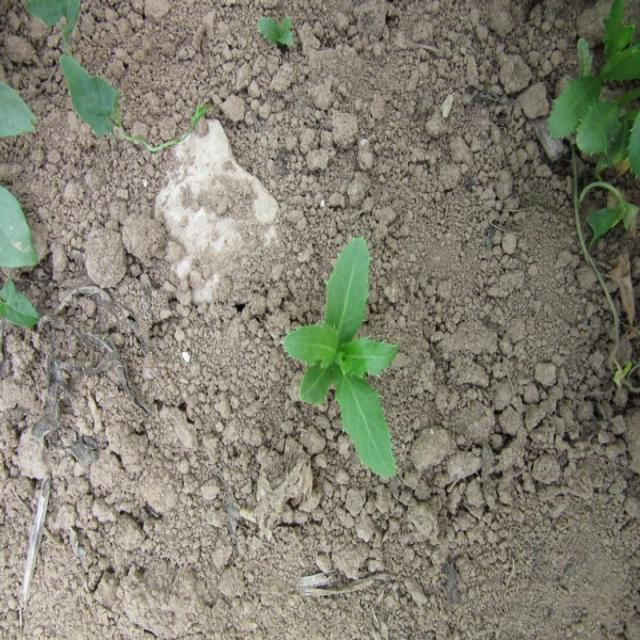cs: (279, 228, 401, 490)
